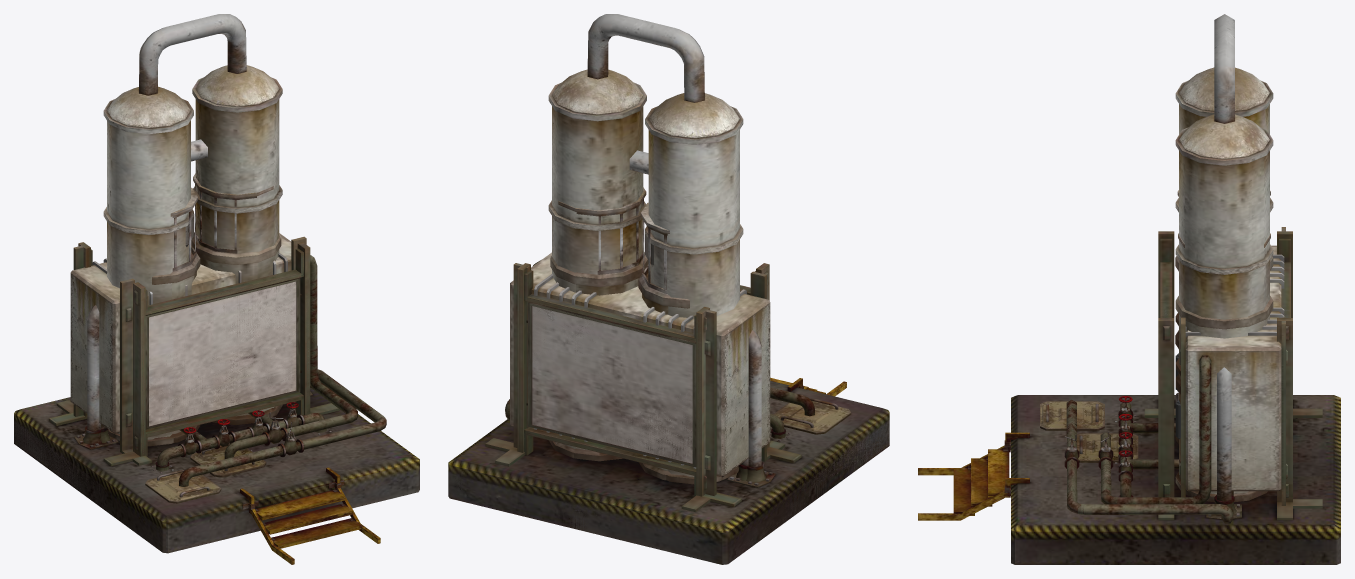
Rendered from plant.glb.
3 views of the same model, side by side, from view 1: azimuth 30°, elevation 25°; view 2: azimuth 150°, elevation 25°; view 3: azimuth 270°, elevation 25° (orthographic). The views are drawn at different scales.
Visible parts, largest first — view 1: unit_tower, unit_vessel, unit_condenser; view 2: unit_tower, unit_vessel, unit_condenser; view 3: unit_tower, unit_condenser, unit_vessel.
Part boxes in pixels (x1=…): unit_tower: x1=14, y1=14, x2=419, y2=563; unit_vessel: x1=14, y1=139, x2=419, y2=564; unit_condenser: x1=14, y1=233, x2=386, y2=556; unit_tower: x1=448, y1=14, x2=889, y2=532; unit_vessel: x1=448, y1=150, x2=872, y2=564; unit_condenser: x1=449, y1=252, x2=889, y2=554; unit_tower: x1=918, y1=14, x2=1340, y2=563; unit_condenser: x1=971, y1=227, x2=1322, y2=523; unit_vessel: x1=918, y1=190, x2=1340, y2=564.
Bounding box in the file's own units: 136 × 218 × 179.
Materials: 1 (1 with a texture image).
